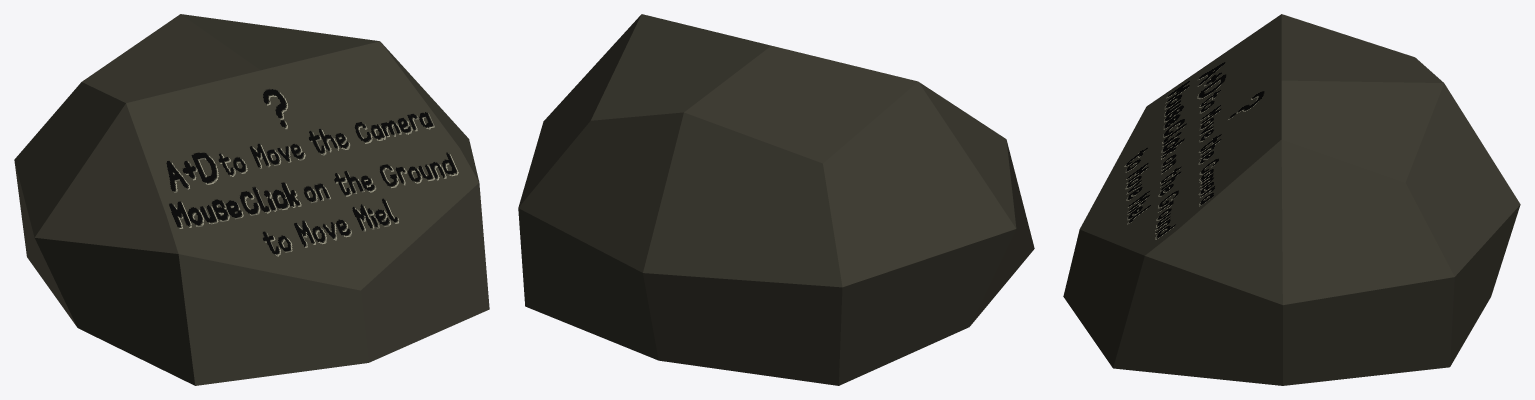
Rendered from hint_rock.glb.
3 views of the same model, side by side, from view 1: azimuth 30°, elevation 25°; view 2: azimuth 150°, elevation 25°; view 3: azimuth 270°, elevation 25° (orthographic). The views are drawn at different scales.
Visible parts, largest first — view 1: Cube; view 2: Cube; view 3: Cube.
Boxes of the visible parts, left/top/right/bottom form: Cube: left=14, top=14, right=489, bottom=385; Cube: left=518, top=14, right=1034, bottom=385; Cube: left=1063, top=14, right=1520, bottom=385.
Bounding box in the file's own units: 1.23 × 0.5763 × 1.1.
1 material, 1 textured.
